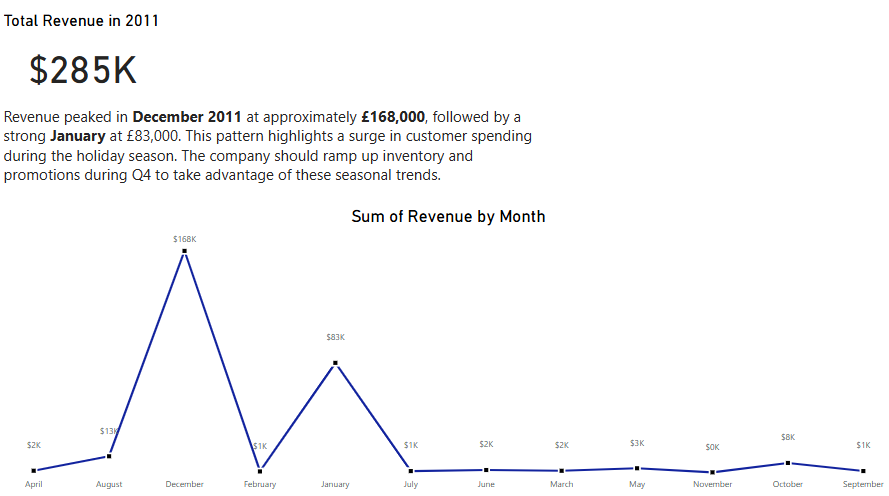

The dashboard page shown, as its layout file describes it:
{"tool":"powerbi","page":{"name":"Question 1","canvas":[1280,720],"ordinal":0},"visuals":[{"type":"lineChart","title":"Sum of Revenue by Month","fields":{"Category":["Online Retail.MonthName"],"Y":["Sum(Online Retail.Revenue)"]},"box":[0,305.7,1279.7,414.3],"z":0},{"type":"card","title":"Total Revenue in 2011","fields":{"Values":["Sum(Online Retail.Revenue)"]},"box":[0,25.8,236.4,129.1],"z":1000},{"type":"textbox","box":[0,154.9,775.7,150.8],"z":2000}]}

Visuals, with their boxes in screenshot pixels (x1, y1, x2, y2), scaled from the page's 1280x720 canvas onto the 889x496 screenshot:
"Sum of Revenue by Month" lineChart: <box>0,211,888,495</box>
"Total Revenue in 2011" card: <box>0,18,164,107</box>
textbox: <box>0,107,539,211</box>
